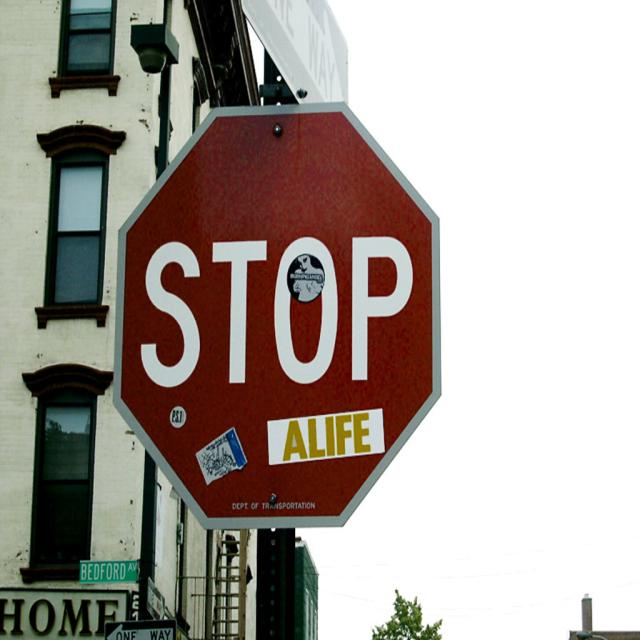Stop-sign: (110, 99, 441, 531)
